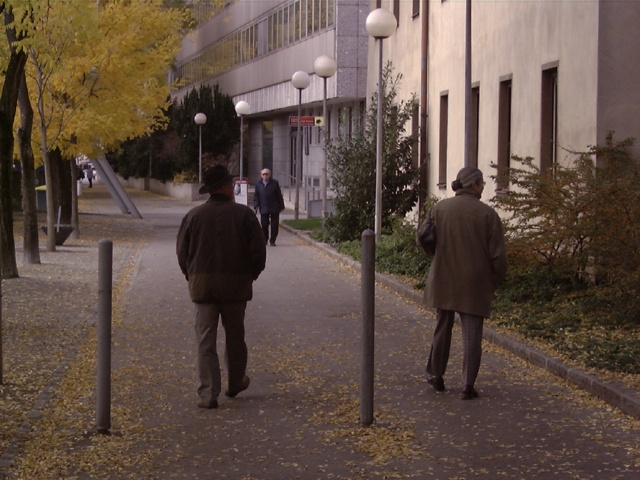person: (171, 165, 270, 412), (427, 165, 500, 402)
